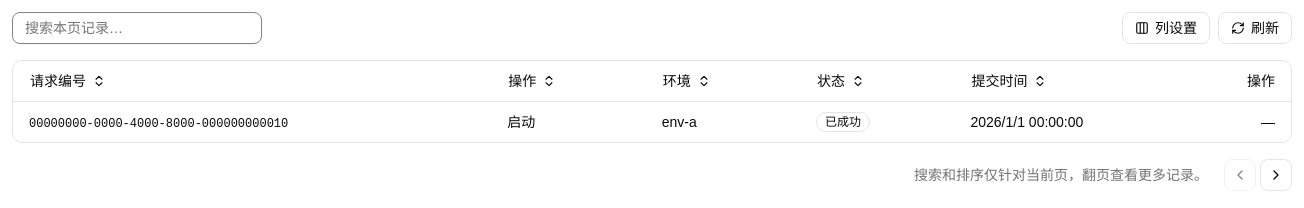
pending identity verification and command receipts › uses bounded owned pagination rather than fetching all command history
The image size is (1304, 208).
Expected: the element showing "搜索和排序仅针对当前页，翻页查看更多记录。" is shown, [914, 158, 1292, 190]
Expected: the button named "上一页" is disabled, [1224, 158, 1256, 190]
Click the button named "下一页".
click(1276, 174)  # box [1260, 158, 1292, 190]
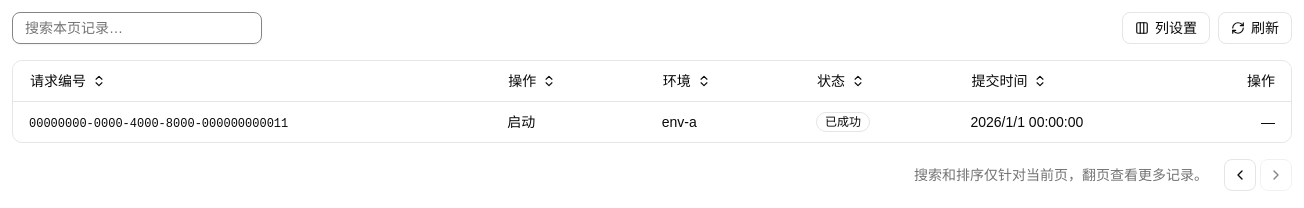
Expected: the text "00000000-0000-4000-8000-000000000011" is shown, [29, 116, 288, 130]
Click the button named "上一页".
click(1240, 174)  # box [1224, 158, 1256, 190]
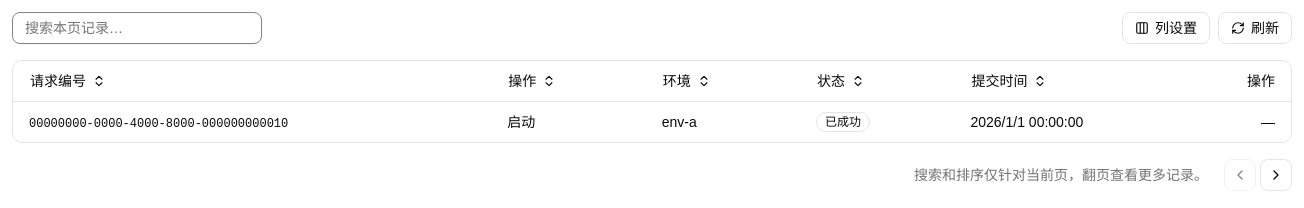
Expected: the text "00000000-0000-4000-8000-000000000010" is shown, [29, 116, 288, 130]
